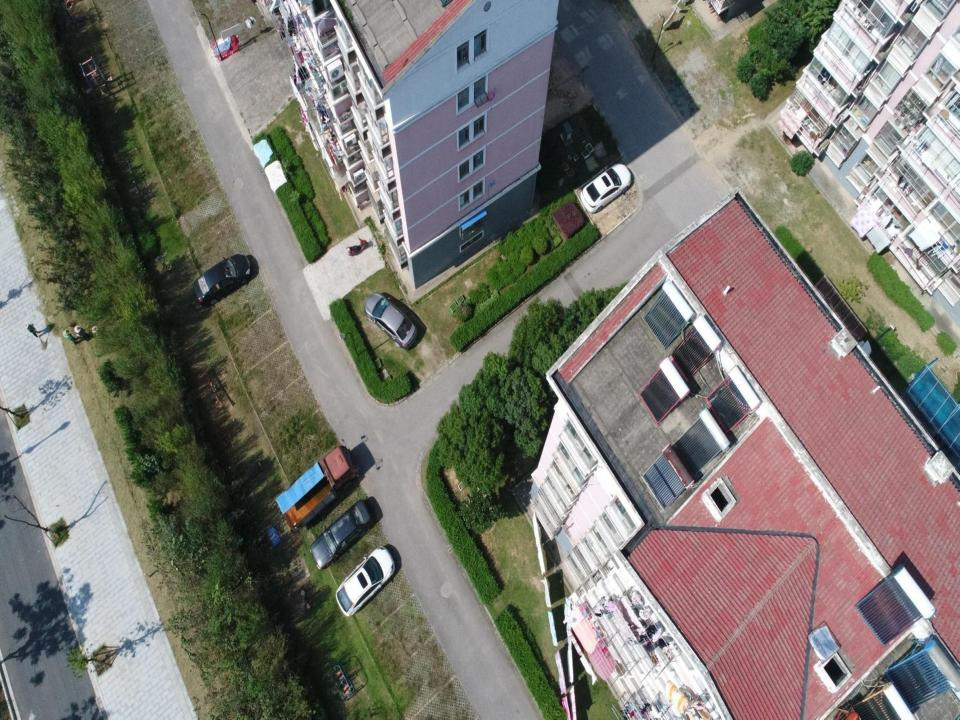car: (309, 496, 376, 570), (336, 546, 402, 616), (364, 289, 418, 352), (194, 252, 252, 308), (580, 163, 639, 213)
truck: (277, 446, 363, 532)
